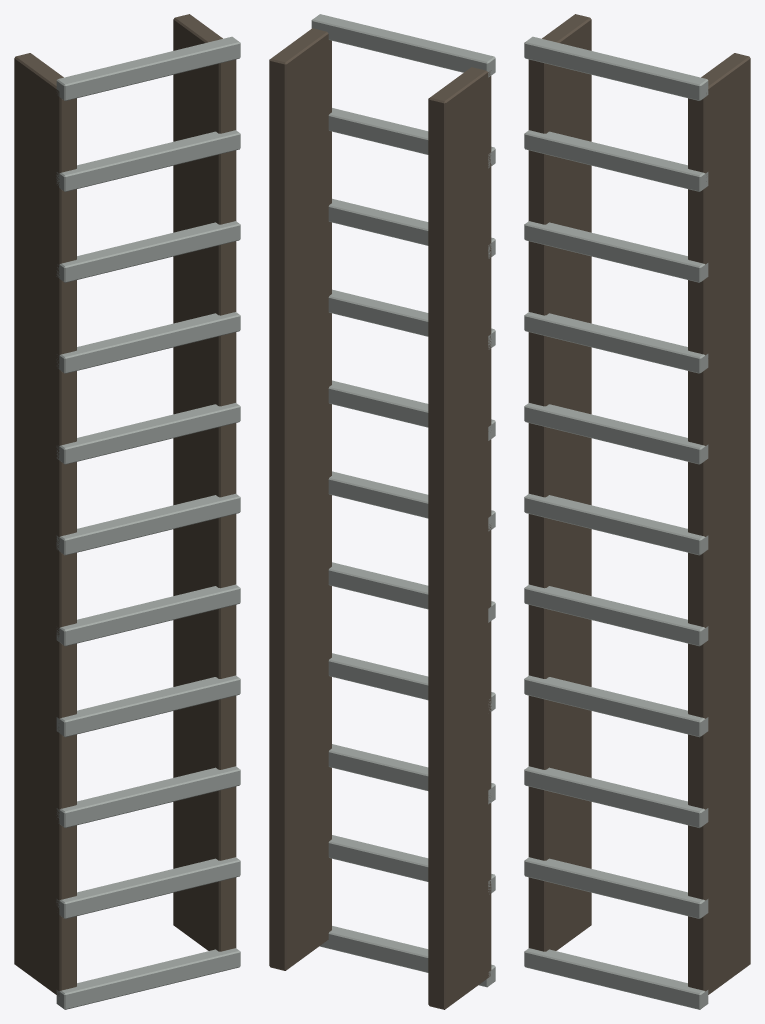
File: GE_LADDER_3M_LODs.fbx
The picture shows the model from 3 angles, left to right: view 1: azimuth 30°, elevation 25°; view 2: azimuth 150°, elevation 25°; view 3: azimuth 330°, elevation 25°; orthographic projection.
Visible parts, largest first — view 1: GE_LADDER_3M_LOD0; view 2: GE_LADDER_3M_LOD0; view 3: GE_LADDER_3M_LOD0.
Boxes of the visible parts, <box> form: GE_LADDER_3M_LOD0: <box>14,14,240,1009</box>; GE_LADDER_3M_LOD0: <box>269,14,495,1009</box>; GE_LADDER_3M_LOD0: <box>524,14,750,1009</box>.
Size of what is drawn, in the model's own units: 0.6 by 3 by 0.3.
